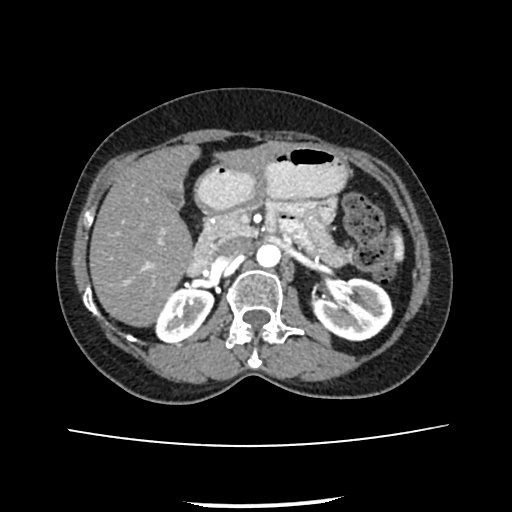aorta: (254, 242, 284, 268)
